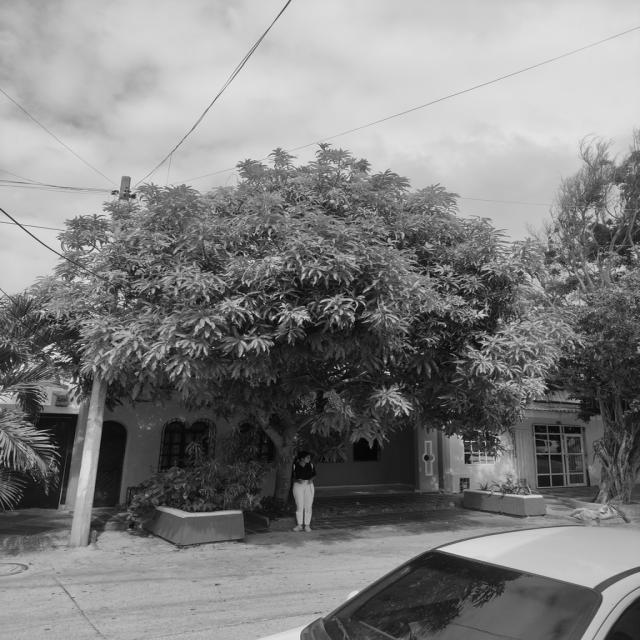Mango-Tree: (35, 149, 538, 505)
